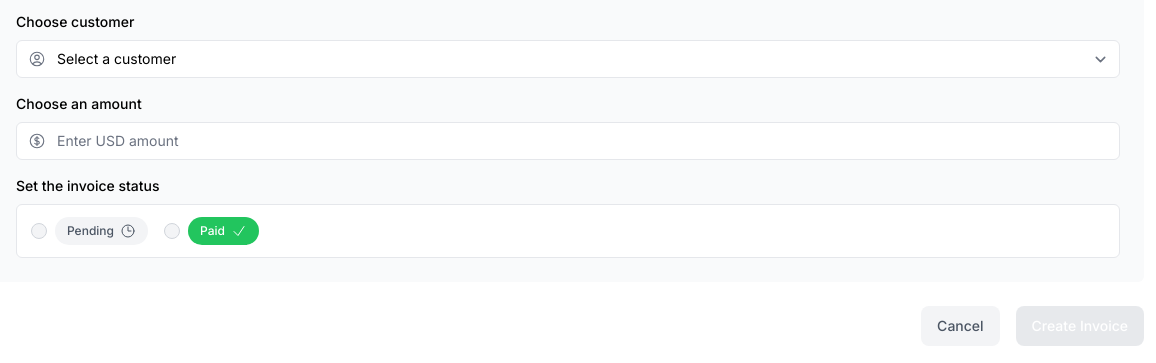
Test: Form component › submit button should be disabled if any required field is empty
Select a customer
Select "Customer 1" in the dropdown labelled "Choose customer". click: (568, 59)
box: [16,40,1120,78]
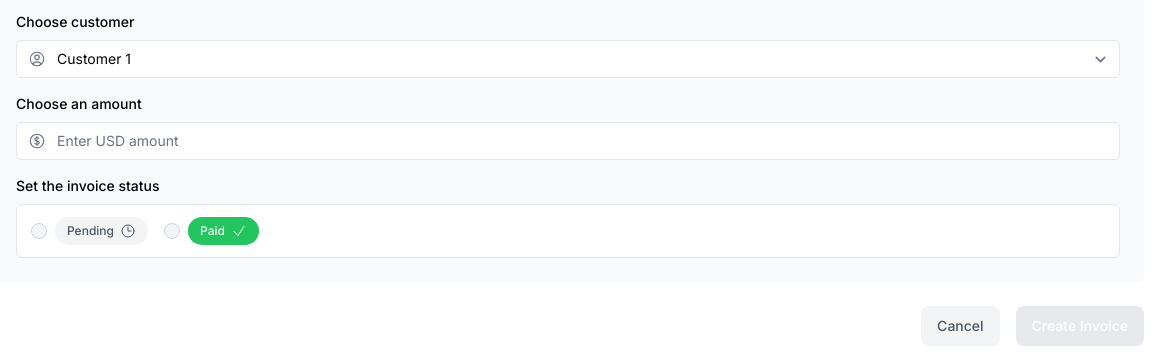
Enter amount
Type "100" into the number field labelled "Choose an amount". click: (568, 141)
box: [16,122,1120,160]
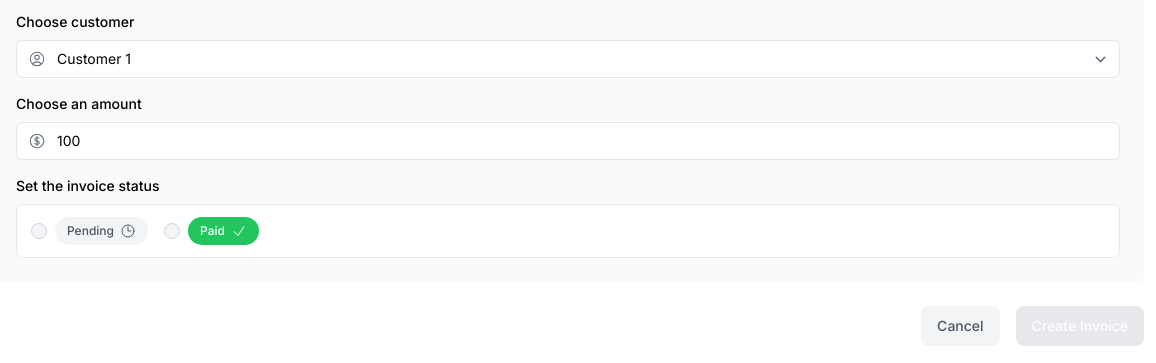
Select status
Click the radio button labelled "Pending". click: (39, 231)
box: [31,223,47,239]
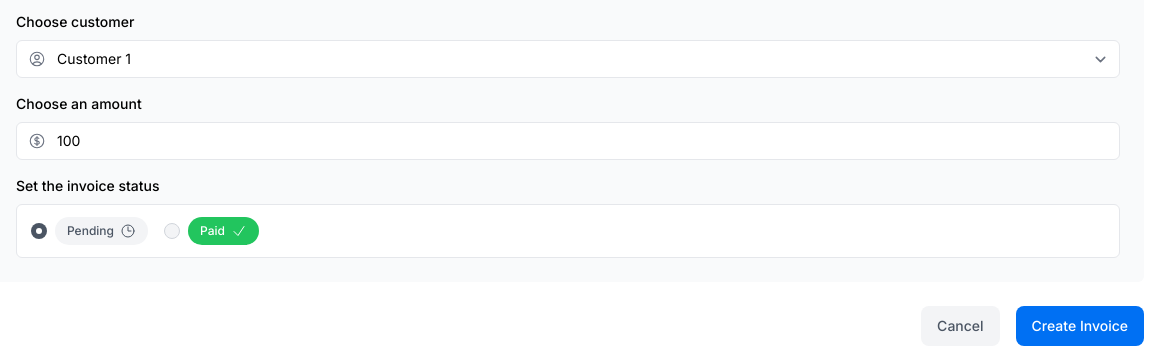
Now the button "Create Invoice" is enabled, box [1016,306,1144,346]
